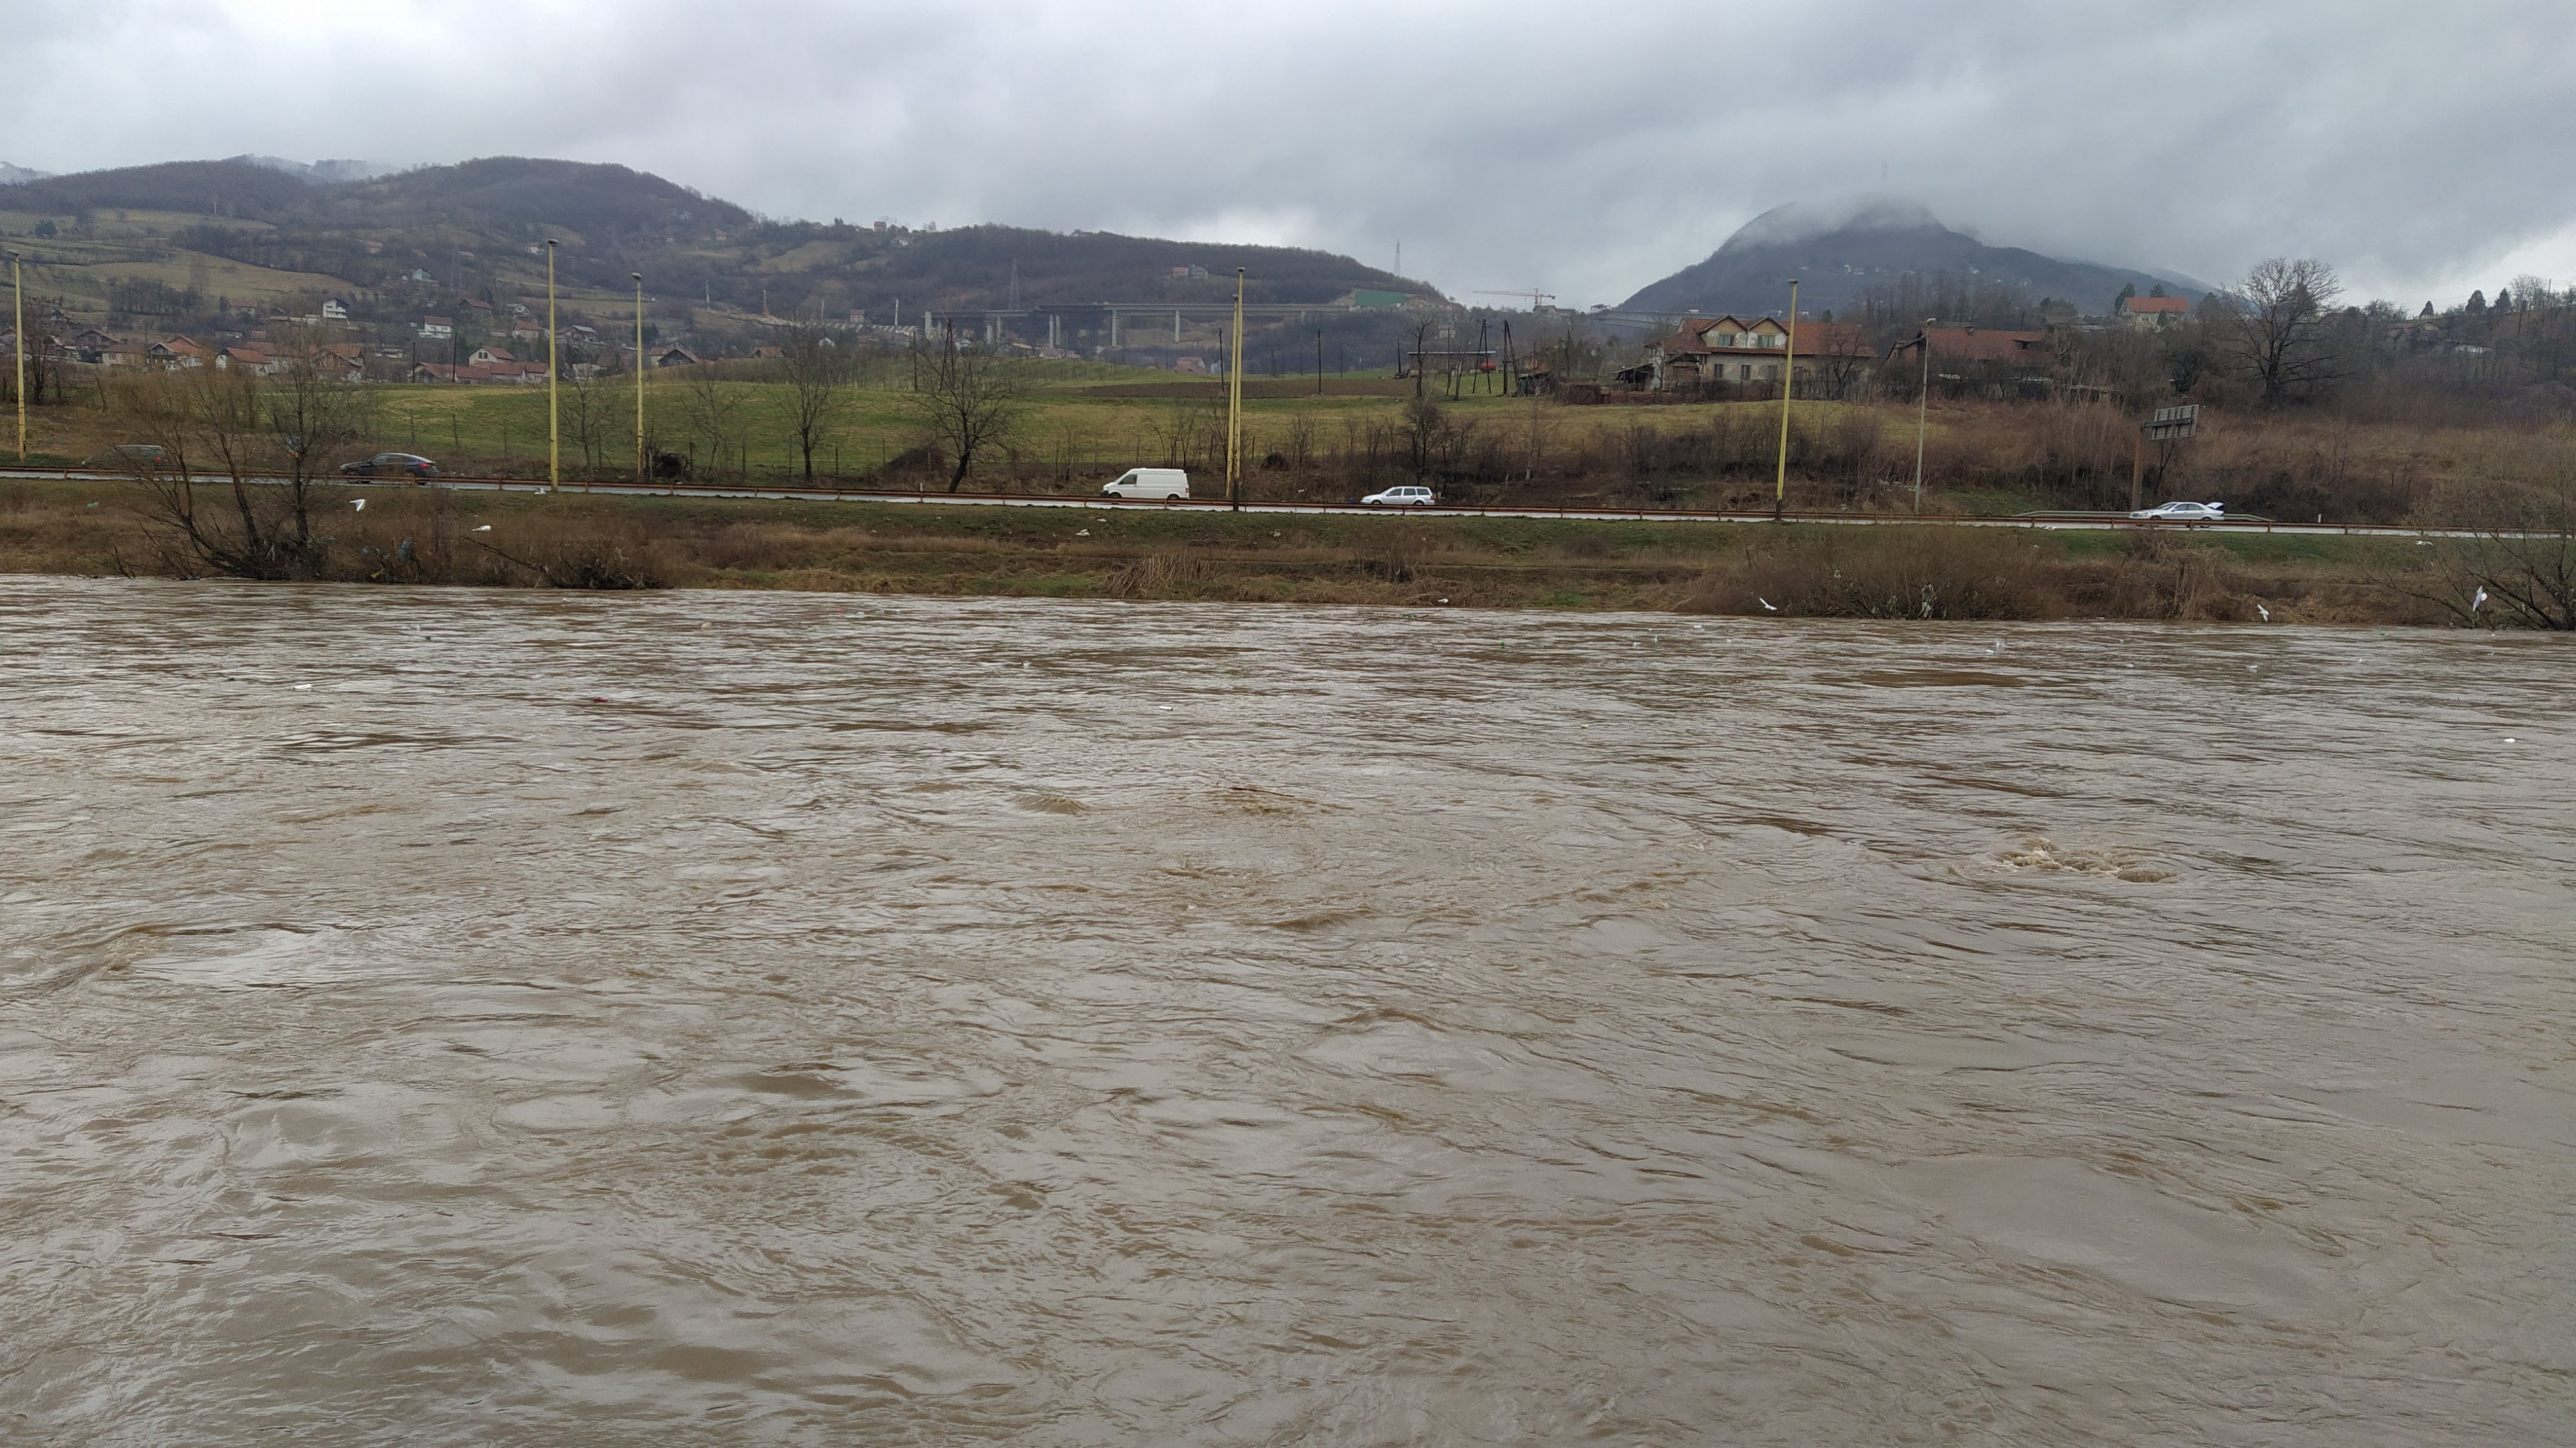Plastic Bottle: (292, 683, 313, 690), (593, 696, 609, 703), (1161, 705, 1173, 710), (701, 623, 711, 628), (425, 635, 432, 641), (856, 611, 865, 614), (1691, 625, 1700, 628), (1985, 650, 1994, 653), (228, 676, 234, 682), (1500, 641, 1504, 646), (1403, 612, 1408, 616), (839, 609, 842, 611), (2380, 632, 2383, 634)
